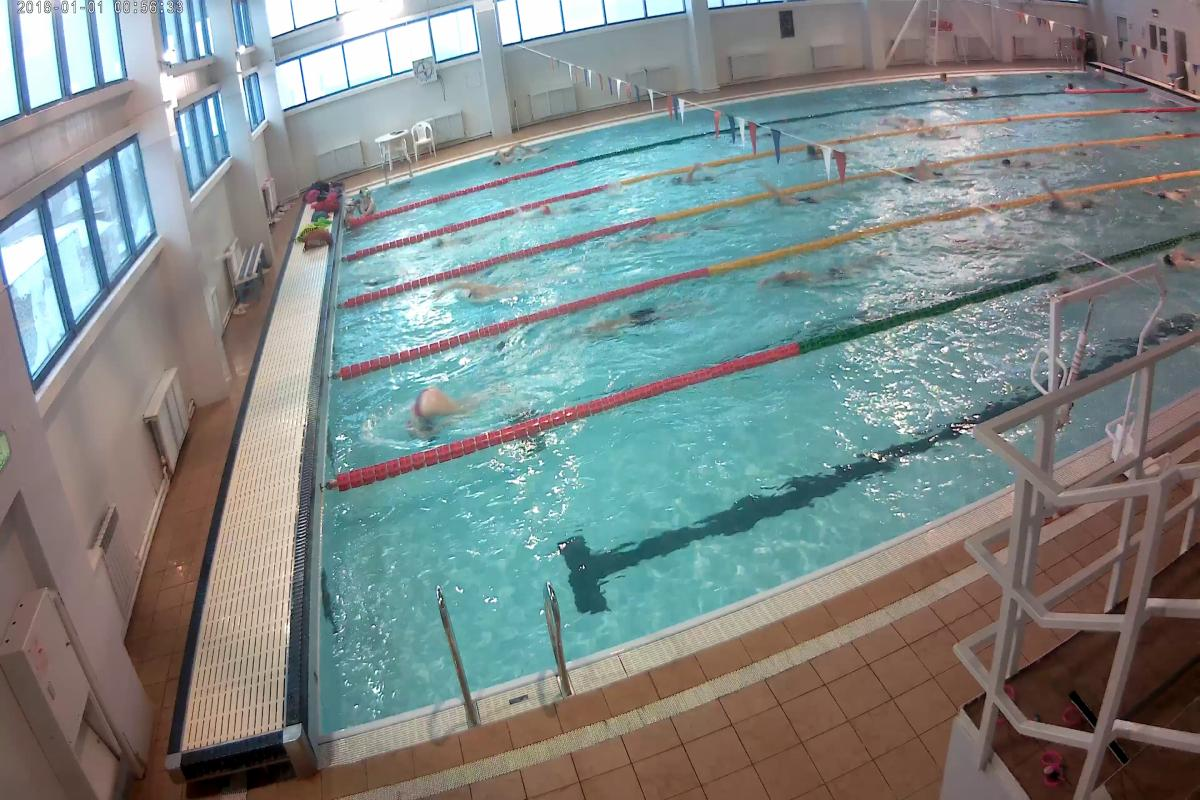swimmer: (580, 290, 695, 342), (397, 377, 478, 447), (759, 251, 867, 296), (442, 274, 520, 312), (754, 189, 838, 211), (1146, 179, 1196, 203), (663, 165, 718, 186), (892, 168, 952, 185), (1036, 195, 1105, 209), (1162, 246, 1196, 271)
